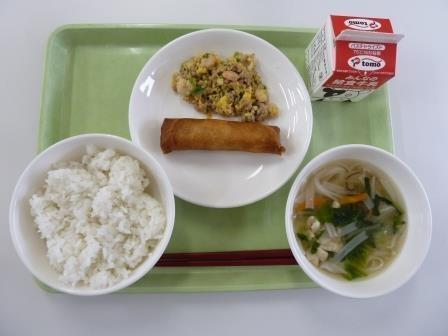Milk: (293, 9, 405, 104)
Rice: (14, 140, 166, 286)
cereal based cooked food: (167, 47, 281, 119)
crepe w filling: (149, 116, 292, 160)
noodles soup: (295, 156, 437, 290)
